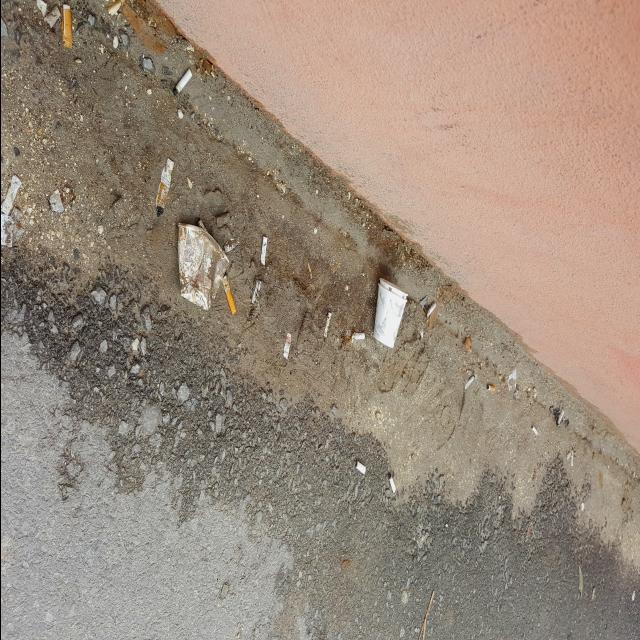Cigarette: (155, 158, 173, 218), (0, 175, 21, 216), (221, 270, 235, 315), (172, 69, 191, 94), (424, 301, 435, 319), (260, 236, 266, 265), (354, 460, 365, 474), (387, 474, 395, 493), (464, 375, 474, 390), (555, 409, 563, 426), (351, 333, 364, 340), (485, 384, 495, 392), (530, 425, 537, 436)
Paper cup: (177, 223, 229, 311), (373, 283, 406, 348), (378, 278, 407, 299)
Unlabeled litter: (1, 214, 13, 247), (48, 190, 63, 212), (223, 236, 239, 253), (322, 312, 331, 340), (282, 333, 290, 360), (251, 281, 260, 304), (570, 450, 572, 466)
Wrapping paper: (59, 4, 72, 50)
